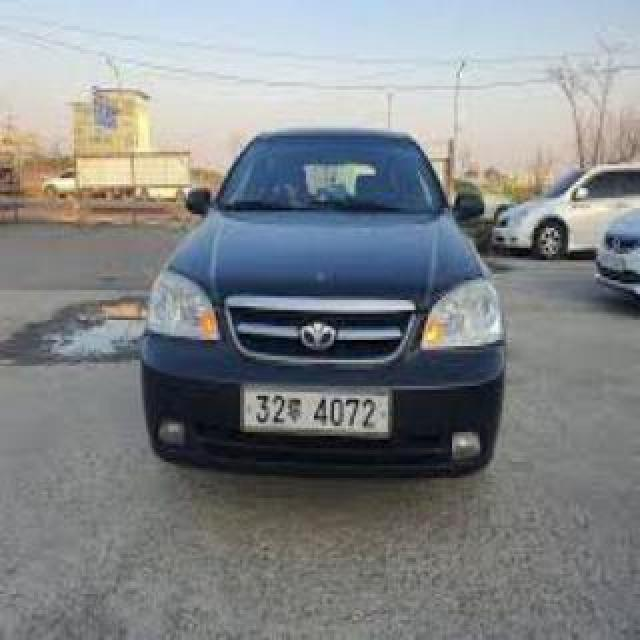car: (136, 116, 528, 491)
illegal_plate: (241, 383, 393, 442)
